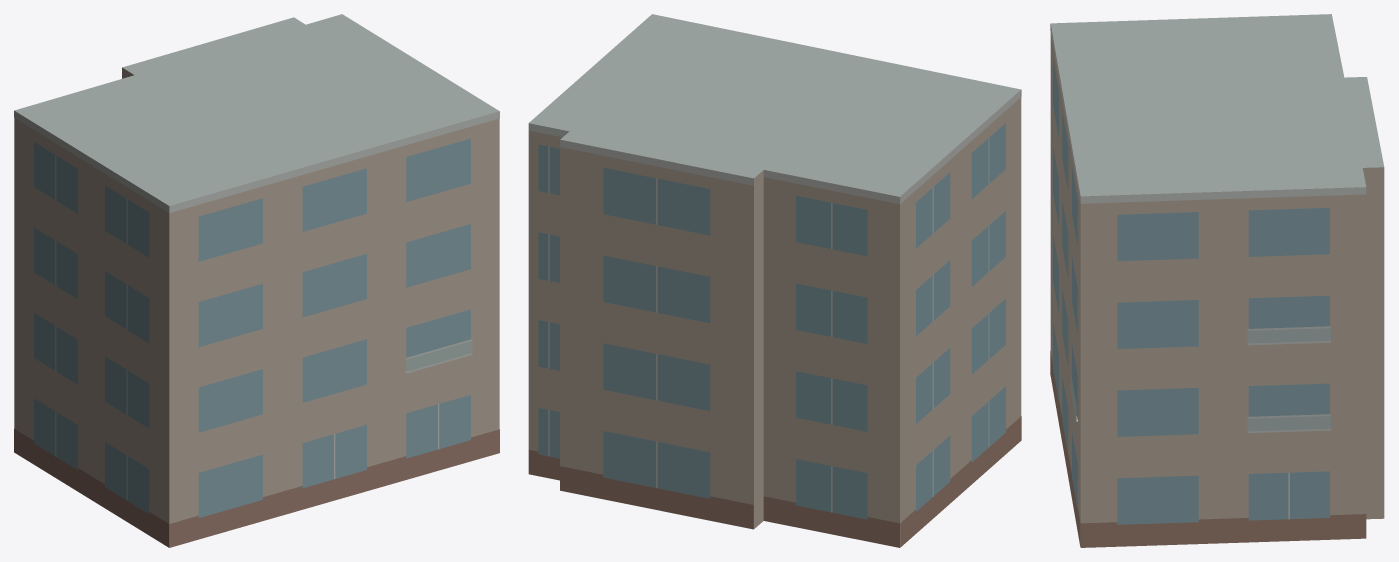
File: survey-upis-32875380.glb
3 views of the same model, side by side, from view 1: azimuth 30°, elevation 25°; view 2: azimuth 150°, elevation 25°; view 3: azimuth 270°, elevation 25° (orthographic). The views are drawn at different scales.
Parts seen in each view (by area): view 1: survey-upis-32875380.tmp; view 2: survey-upis-32875380.tmp; view 3: survey-upis-32875380.tmp.
Boxes of the visible parts, left/top/right/bottom form: survey-upis-32875380.tmp: left=14, top=14, right=499, bottom=547; survey-upis-32875380.tmp: left=528, top=14, right=1021, bottom=547; survey-upis-32875380.tmp: left=1050, top=14, right=1384, bottom=547.
Size of the model in its own units: 13.03 by 11.7 by 10.08.
